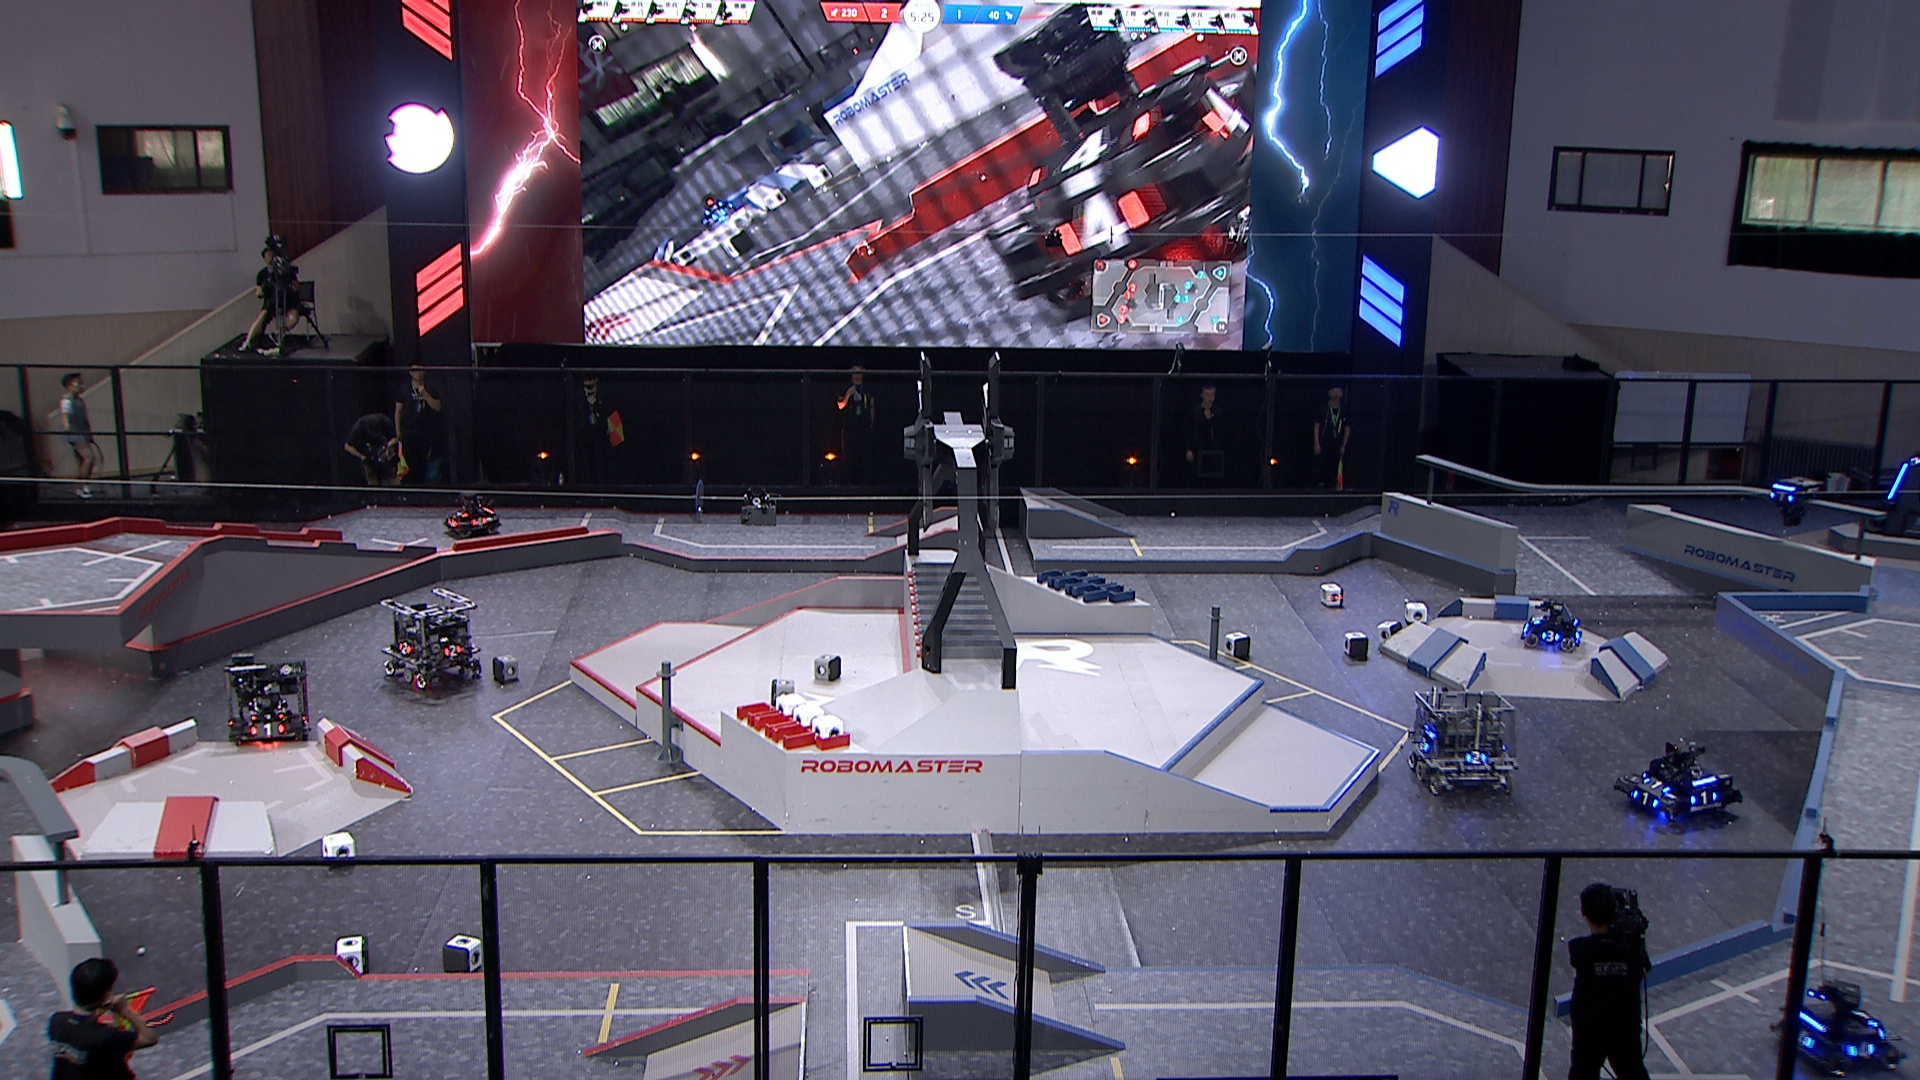armor: (1887, 462, 1908, 502), (1845, 1038, 1878, 1062), (1633, 789, 1662, 811), (1854, 1007, 1879, 1030), (249, 723, 287, 737), (1642, 775, 1671, 794), (1691, 790, 1717, 808), (1795, 1030, 1815, 1050), (1465, 752, 1489, 767), (1770, 491, 1795, 505), (442, 645, 465, 659), (1542, 629, 1563, 645), (251, 713, 285, 723), (398, 640, 414, 657), (469, 516, 489, 527), (1418, 736, 1432, 752), (1528, 613, 1544, 626), (446, 518, 460, 529)
base: (1863, 454, 1920, 541)
car: (1768, 975, 1907, 1080), (1408, 684, 1523, 802), (381, 585, 483, 694), (1614, 741, 1747, 823), (220, 651, 315, 746), (1520, 603, 1582, 654), (443, 488, 502, 541)
ignore: (982, 5, 1257, 306), (703, 196, 736, 225)
watcher: (1768, 475, 1820, 531)
